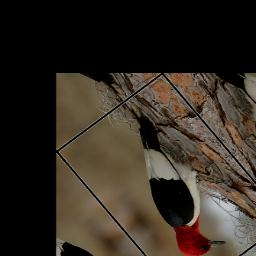Woodpecker: (86, 93, 256, 256)
